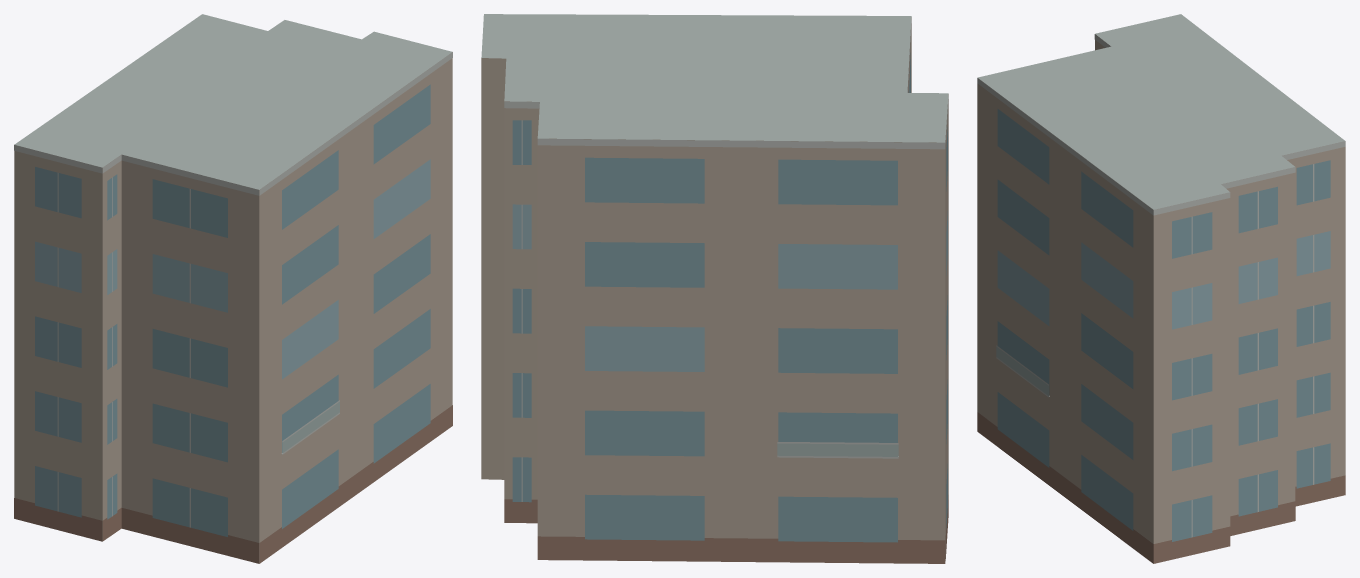
The model's file is survey-upis-32638343.glb.
3 renders of one model, left to right at view 1: azimuth 30°, elevation 25°; view 2: azimuth 150°, elevation 25°; view 3: azimuth 270°, elevation 25°, orthographic. The views are drawn at different scales.
Parts seen in each view (by area): view 1: survey-upis-32638343.tmp; view 2: survey-upis-32638343.tmp; view 3: survey-upis-32638343.tmp.
Part boxes in pixels (x1,y1,x2,y2): survey-upis-32638343.tmp: (14,14,452,563); survey-upis-32638343.tmp: (481,14,948,563); survey-upis-32638343.tmp: (977,14,1345,563).
Bounding box in the file's own units: 18.05 × 15.2 × 14.34.
